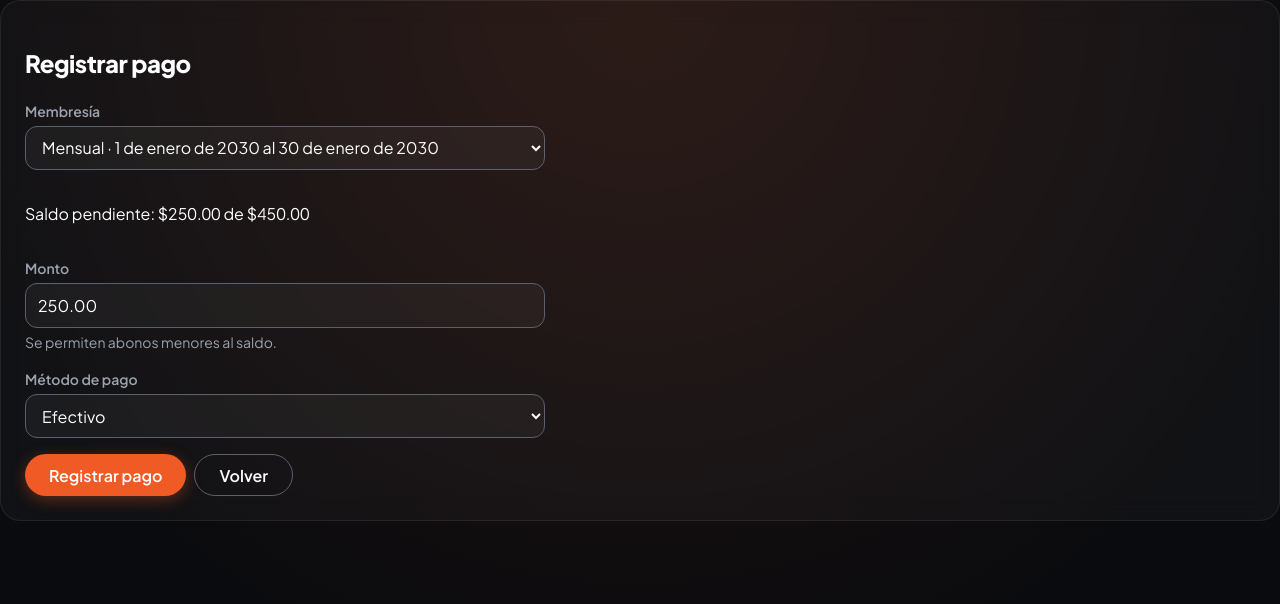
formulario de pagos › muestra_en_espanol_el_error_422_del_servidor
Expected: the field labelled "Monto" is shown, [25,283,545,328]
Click the button "Registrar pago" at coordinates (106, 475), box [25,454,186,496]
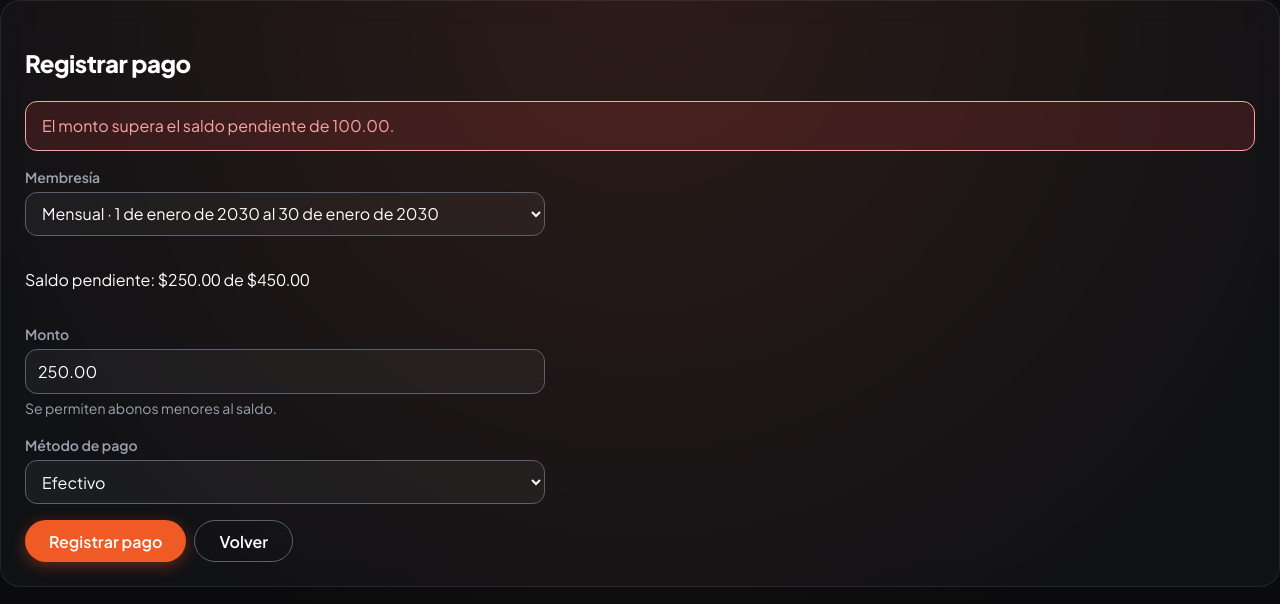
Expected: the message "El monto supera el saldo pendiente de 100.00." is shown, [25,101,1255,151]
